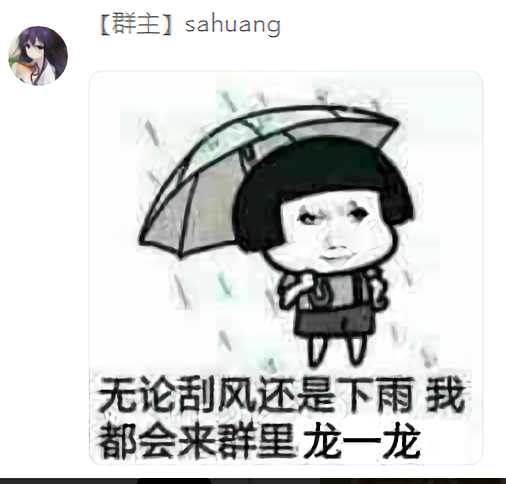dragon: (296, 201, 376, 264)
